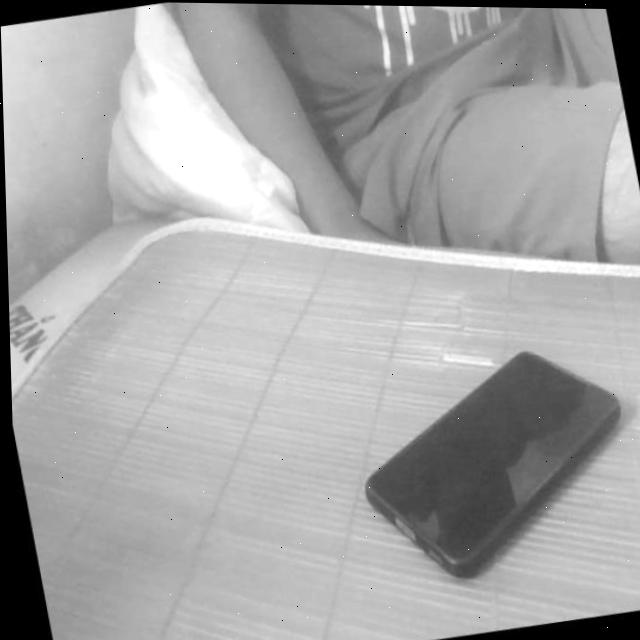phone: (337, 320, 640, 597)
